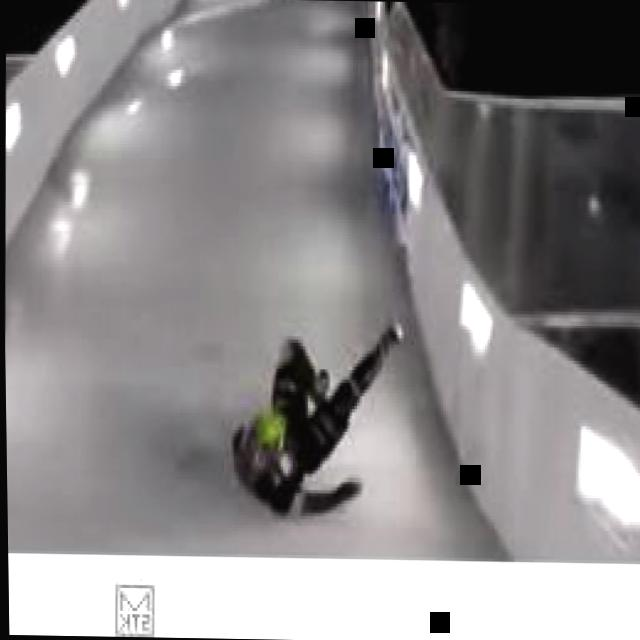Fall-Detected: (231, 283, 408, 527)
